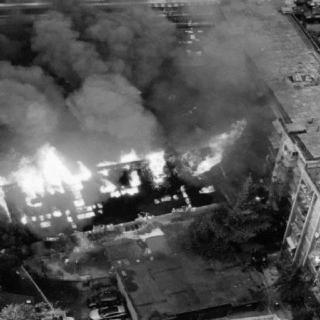Smoke: (4, 2, 270, 128)
